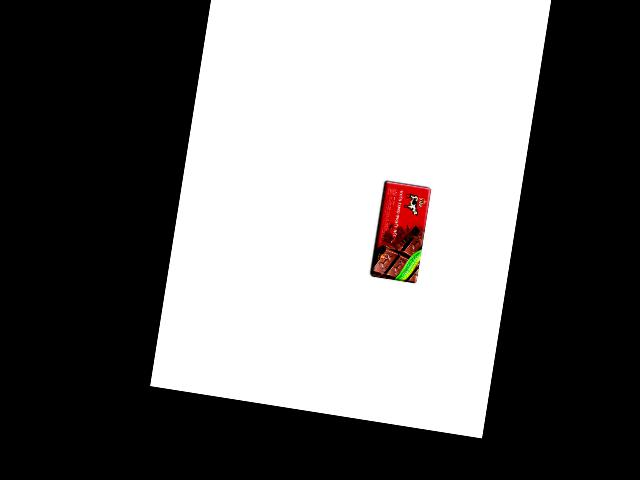chocolate: (365, 176, 433, 283)
